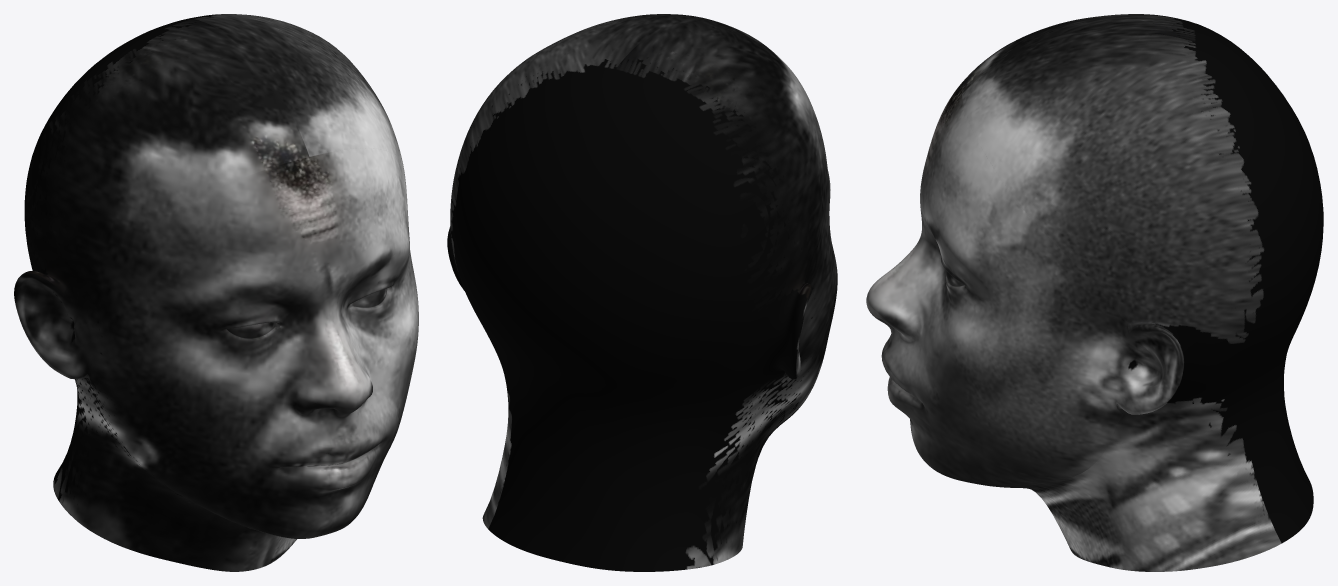
The model's file is davis.glb.
The picture shows the model from 3 angles, left to right: view 1: azimuth 30°, elevation 25°; view 2: azimuth 150°, elevation 25°; view 3: azimuth 270°, elevation 25°; orthographic projection. The views are drawn at different scales.
Parts seen in each view (by area): view 1: FBHead.004; view 2: FBHead.004; view 3: FBHead.004.
Part boxes in pixels (bbox=[...]): FBHead.004: bbox=[14, 14, 418, 571]; FBHead.004: bbox=[447, 14, 837, 571]; FBHead.004: bbox=[866, 14, 1323, 571].
Bounding box in the file's own units: 1.73 × 2.33 × 1.89.
Materials: 1 (1 with a texture image).
